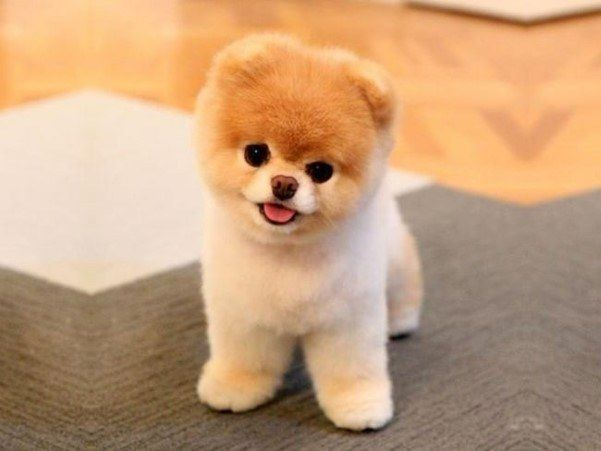pomeranian: (168, 22, 435, 436)
